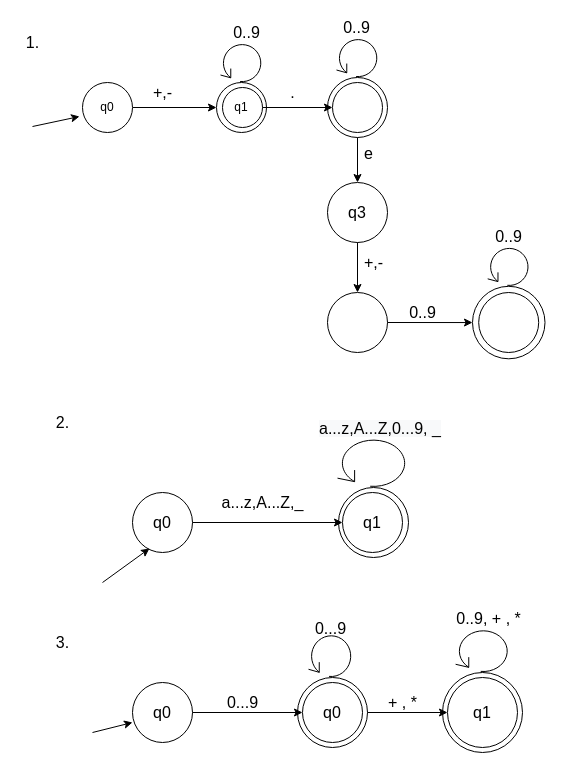
Image size: 562x770. Some labels were removed from this diagram. The centre of each missing label's shape, as x and y in pixels:
q2: pixel 357 107
q4: pixel 357 322
q5: pixel 508 322
